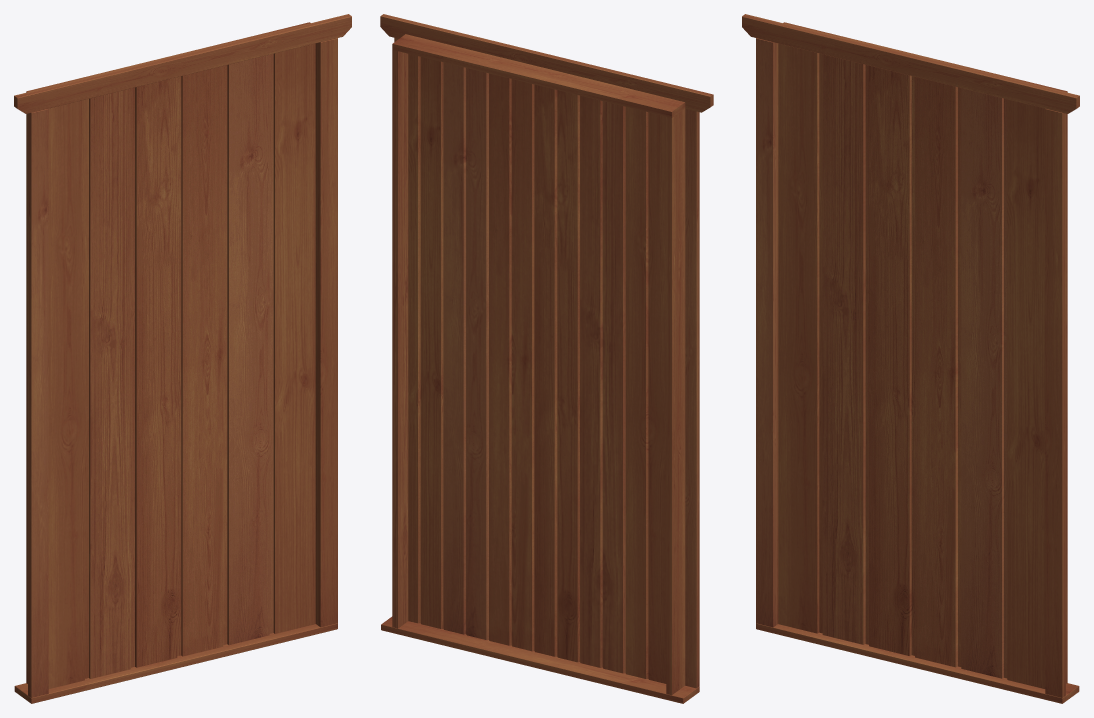
3 renders of one model, left to right at view 1: azimuth 30°, elevation 25°; view 2: azimuth 150°, elevation 25°; view 3: azimuth 330°, elevation 25°, orthographic.
Visible parts, largest first — view 1: plank005, plank004, plank003, plank002, plank006, plank001, trim_right, trim_left, trim_top, box_bottom, box_right, box_left (+1 smaller); view 2: plank003, plank004, plank002, plank005, plank001, plank006, box_left, box_right, trim_left, box_top, trim_top, box_bottom; view 3: plank002, plank005, plank004, plank003, plank001, plank006, trim_right, trim_left, trim_top, box_bottom, box_left, box_right (+1 smaller).
Part boxes in pixels (box(x1,y1,x2,y2)): plank005: box(227, 54, 273, 645); plank004: box(181, 65, 227, 656); plank003: box(135, 76, 181, 667); plank002: box(89, 87, 134, 678); plank006: box(273, 43, 315, 633); plank001: box(48, 99, 88, 688); trim_right: box(317, 38, 337, 627); trim_left: box(28, 108, 48, 697); trim_top: box(14, 14, 351, 113); box_bottom: box(14, 623, 337, 703); box_right: box(315, 43, 317, 624); box_left: box(26, 113, 27, 683); plank003: box(534, 84, 579, 662); plank004: box(489, 73, 534, 651); plank002: box(580, 95, 625, 673); plank005: box(443, 62, 488, 639); plank001: box(625, 107, 666, 683); plank006: box(408, 54, 443, 628); box_left: box(666, 108, 685, 695); box_right: box(392, 50, 408, 628); trim_left: box(685, 109, 699, 688); box_top: box(392, 34, 685, 117); trim_top: box(380, 14, 713, 112); box_bottom: box(381, 616, 699, 703); plank002: box(822, 54, 868, 644); plank005: box(961, 88, 1007, 678); plank004: box(915, 77, 961, 667); plank003: box(869, 65, 914, 655); plank001: box(778, 43, 822, 633); plank006: box(1007, 99, 1045, 688); trim_right: box(1045, 108, 1065, 697); trim_left: box(756, 38, 776, 627); trim_top: box(742, 14, 1079, 113); box_bottom: box(756, 623, 1079, 703); box_left: box(776, 43, 778, 624); box_right: box(1066, 113, 1067, 683).
Bounding box in the file's own units: 43.11 × 75 × 3.75.
8 materials, 8 textured.
